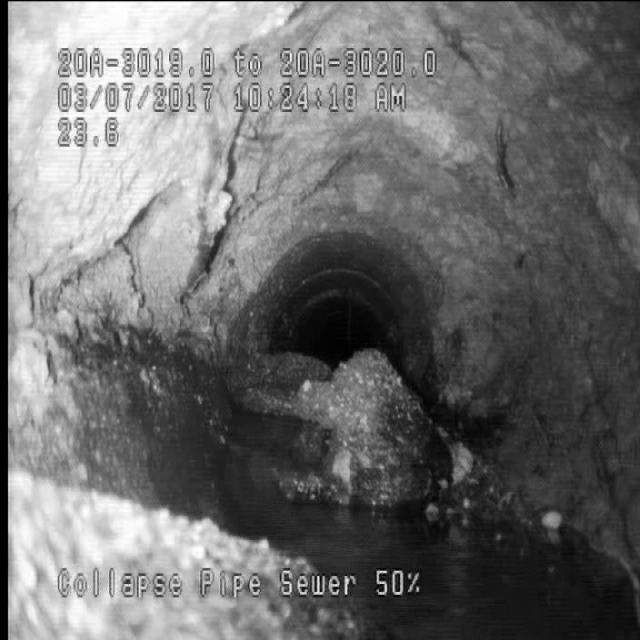Fracture: (38, 176, 246, 390)
